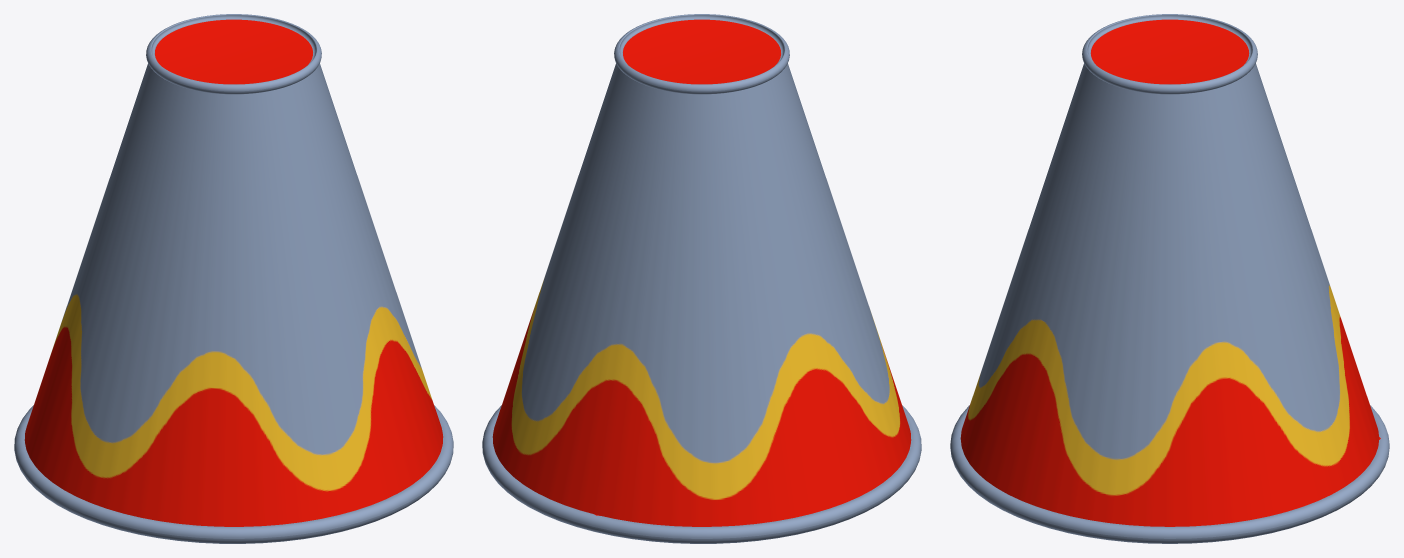
File: CarnivalCone.fbx
3 renders of one model, left to right at view 1: azimuth 30°, elevation 25°; view 2: azimuth 150°, elevation 25°; view 3: azimuth 270°, elevation 25°, orthographic.
Parts seen in each view (by area): view 1: Cone; view 2: Cone; view 3: Cone.
Boxes of the visible parts, x1,y1,x2,y2 form: Cone: (14,14,453,543); Cone: (482,14,921,543); Cone: (950,14,1389,543).
Size of the model in its own units: 2.1 by 2.13 by 2.1.
Materials: 1 (1 with a texture image).
